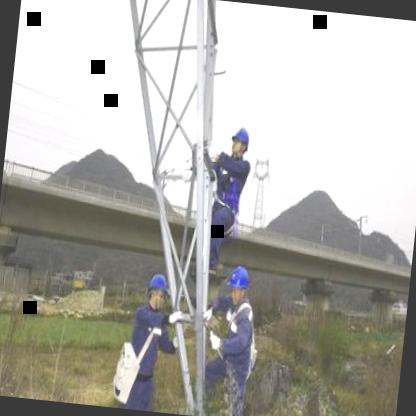helmet: (222, 262, 254, 308), (226, 118, 254, 166), (144, 268, 170, 310)
